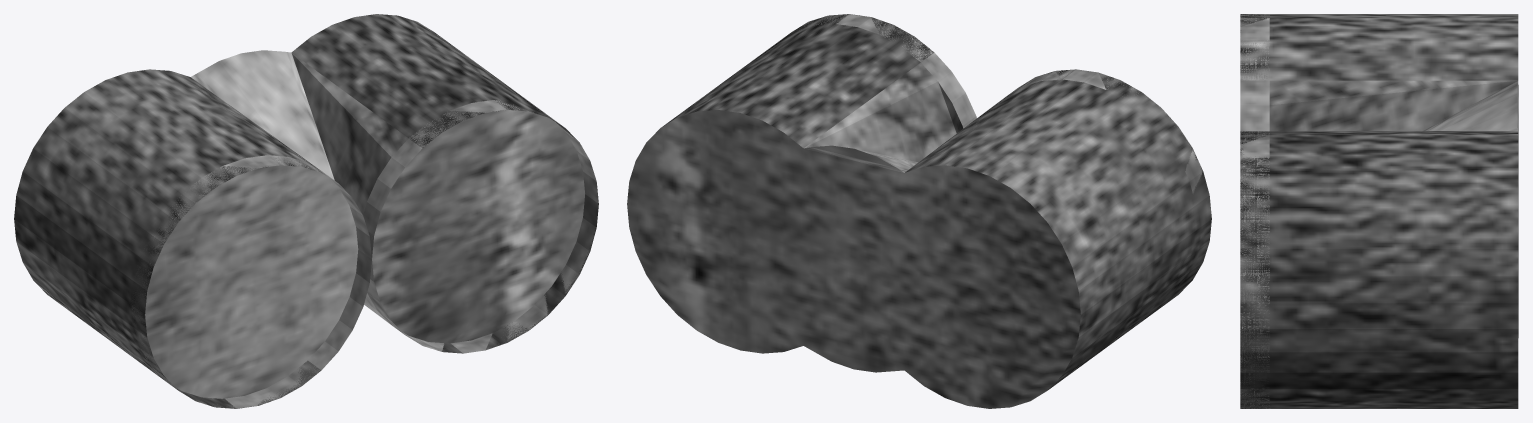
Rendered from DualShot old.obj.
The picture shows the model from 3 angles, left to right: view 1: azimuth 30°, elevation 25°; view 2: azimuth 150°, elevation 25°; view 3: azimuth 270°, elevation 25°; orthographic projection. The views are drawn at different scales.
Visible parts, largest first — view 1: Cone; view 2: Cone; view 3: Cone.
Part boxes in pixels (x1,y1,x2,y2): Cone: [14, 14, 598, 408]; Cone: [627, 14, 1211, 408]; Cone: [1240, 14, 1518, 408].
Size of the model in its own units: 4 by 2 by 2.
